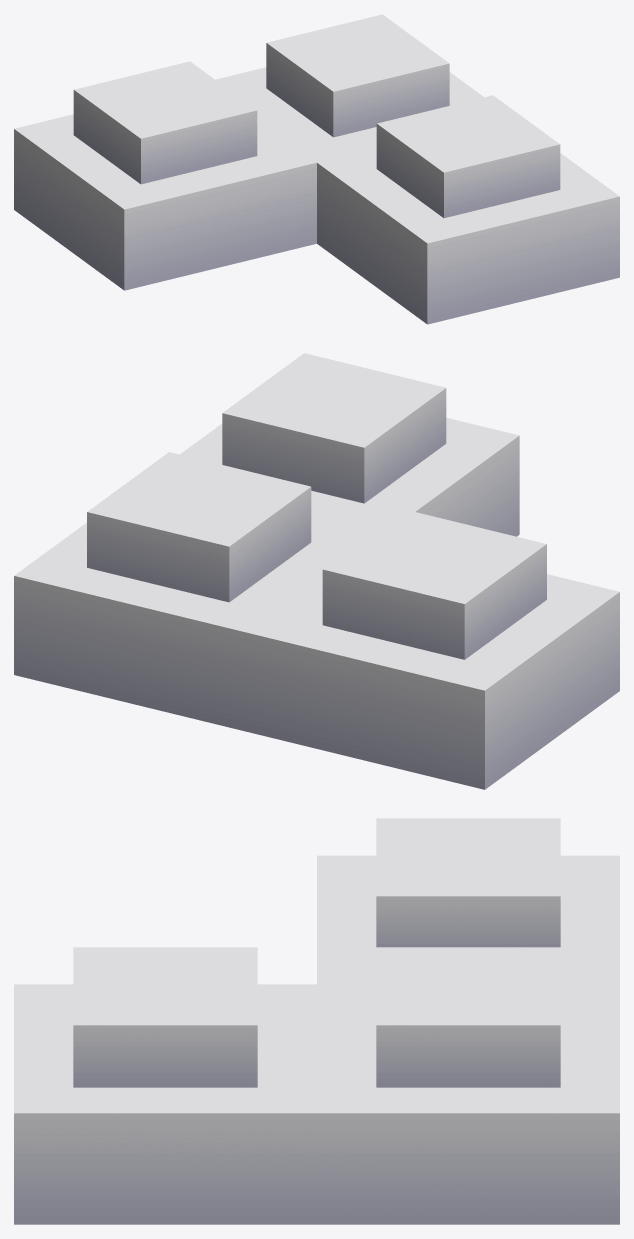
The model's file is square_lq_plate_corner.glb.
3 renders of one model, top to bottom at view 1: azimuth 30°, elevation 25°; view 2: azimuth 150°, elevation 25°; view 3: azimuth 270°, elevation 25°, orthographic. The views are drawn at different scales.
Parts seen in each view (by area): view 1: square-lq-plate-corner; view 2: square-lq-plate-corner; view 3: square-lq-plate-corner.
Boxes of the visible parts, box(x1,y1,x2,y2) form: square-lq-plate-corner: box(14, 14, 619, 324); square-lq-plate-corner: box(14, 353, 619, 789); square-lq-plate-corner: box(14, 818, 619, 1224).
Bounding box in the file's own units: 0.159 × 0.05 × 0.158.
Materials: 1 (1 with a texture image).
